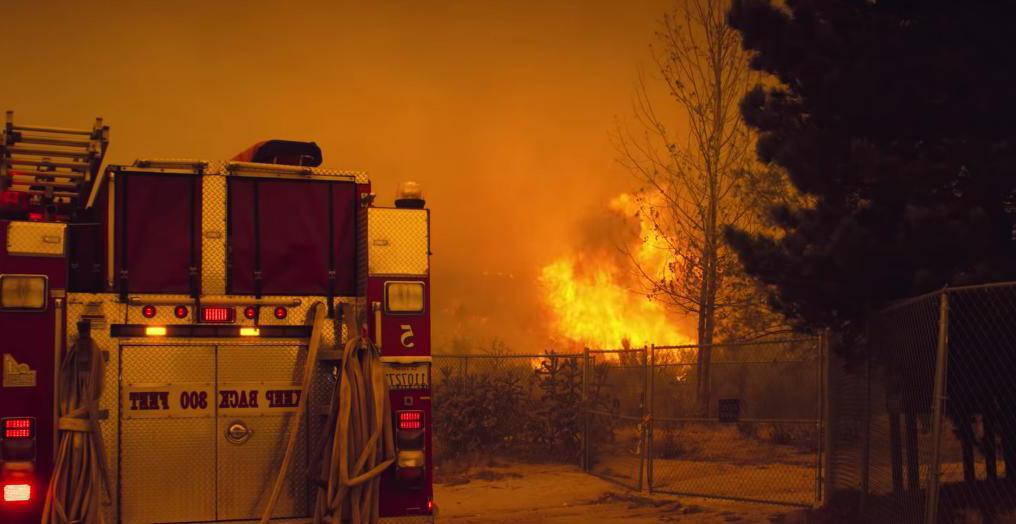Fire: (529, 173, 704, 384)
